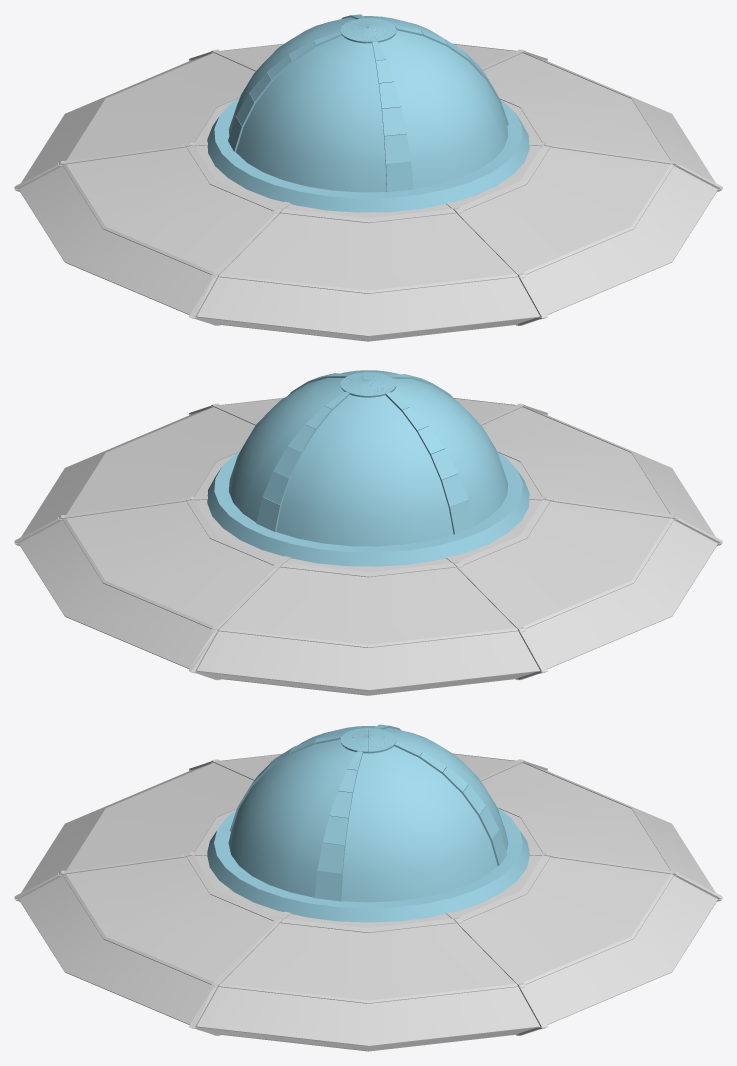
The model's file is Ufo.fbx.
The picture shows the model from 3 angles, top to bottom: view 1: azimuth 30°, elevation 25°; view 2: azimuth 150°, elevation 25°; view 3: azimuth 270°, elevation 25°; orthographic projection.
Visible parts, largest first — view 1: Sphere003, Sphere004; view 2: Sphere003, Sphere004; view 3: Sphere003, Sphere004.
Part boxes in pixels (bbox=[...]): Sphere003: bbox=[14, 43, 722, 341]; Sphere004: bbox=[207, 14, 529, 212]; Sphere003: bbox=[14, 397, 722, 695]; Sphere004: bbox=[207, 370, 529, 566]; Sphere003: bbox=[14, 753, 722, 1051]; Sphere004: bbox=[207, 724, 529, 922].
Bounding box in the file's own units: 35.04 × 14.36 × 35.44.
